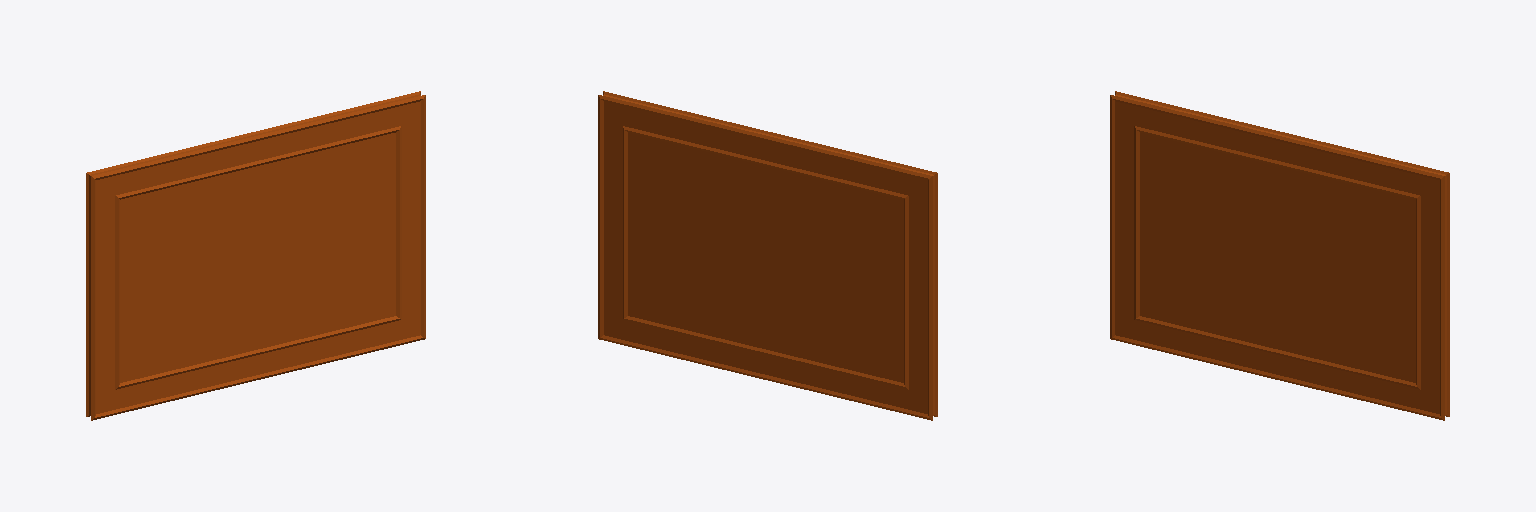
File: Painting_Large.obj
The picture shows the model from 3 angles: view 1: azimuth 30°, elevation 25°; view 2: azimuth 150°, elevation 25°; view 3: azimuth 330°, elevation 25°; orthographic projection.
Visible parts, largest first — view 1: Painting_Large; view 2: Painting_Large; view 3: Painting_Large.
Boxes of the visible parts, x1,y1,x2,y2 form: Painting_Large: [86, 91, 425, 420]; Painting_Large: [598, 91, 937, 420]; Painting_Large: [1110, 91, 1449, 420].
Size of the model in its own units: 2.66 by 1.86 by 0.0888.